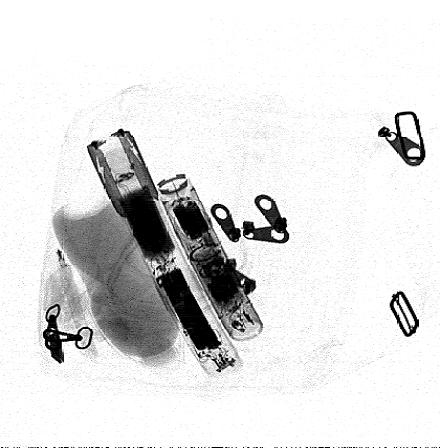Baton: (84, 128, 244, 378), (156, 172, 264, 342)
